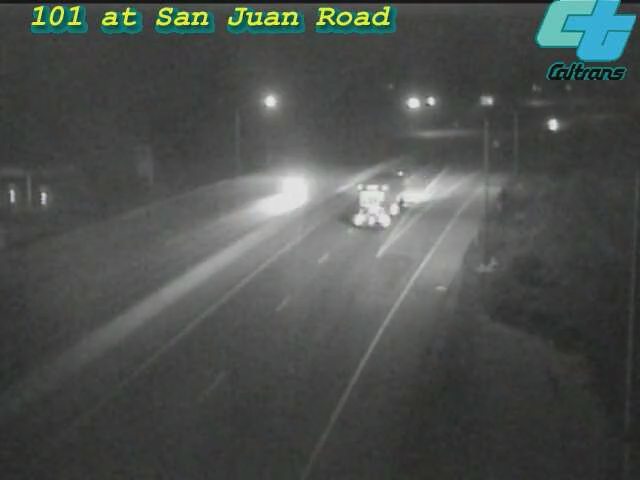vehicle: (250, 151, 330, 231), (340, 154, 420, 234), (530, 98, 580, 148)
